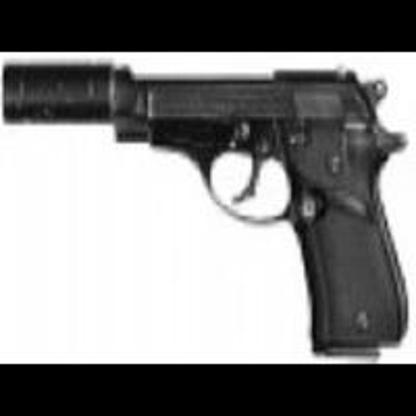weapon: (3, 59, 407, 356)
